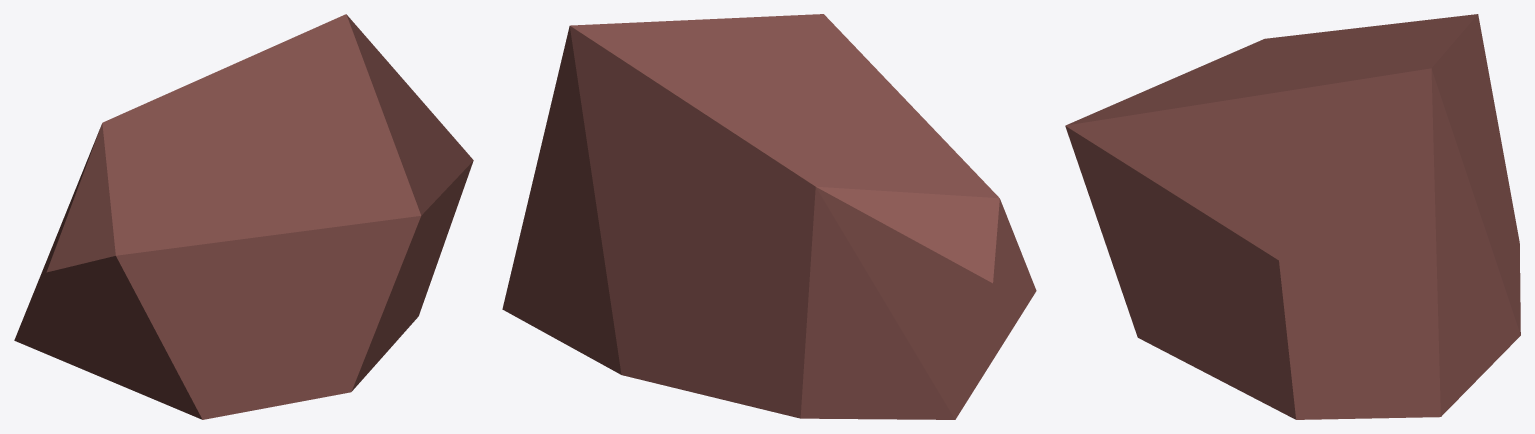
File: rocktype3.gltf
The picture shows the model from 3 angles, left to right: view 1: azimuth 30°, elevation 25°; view 2: azimuth 150°, elevation 25°; view 3: azimuth 270°, elevation 25°; orthographic projection. The views are drawn at different scales.
Visible parts, largest first — view 1: Cube; view 2: Cube; view 3: Cube.
Part boxes in pixels (left/top/right/bottom): Cube: left=14, top=14, right=473, bottom=419; Cube: left=502, top=14, right=1036, bottom=419; Cube: left=1065, top=14, right=1520, bottom=419.
Size of the model in its own units: 3.56 by 2.3 by 2.8.
